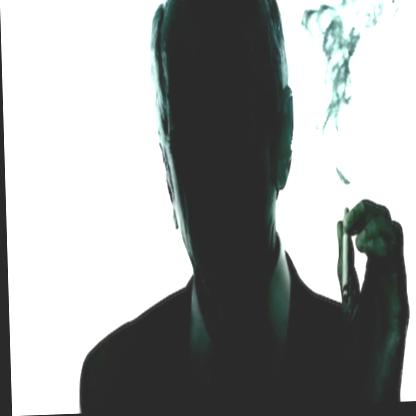smoke: (295, 0, 384, 163)
